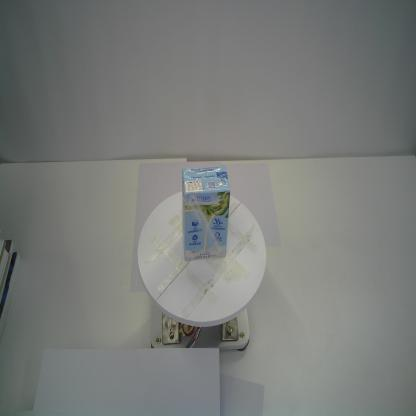Milk: (182, 165, 230, 262)
